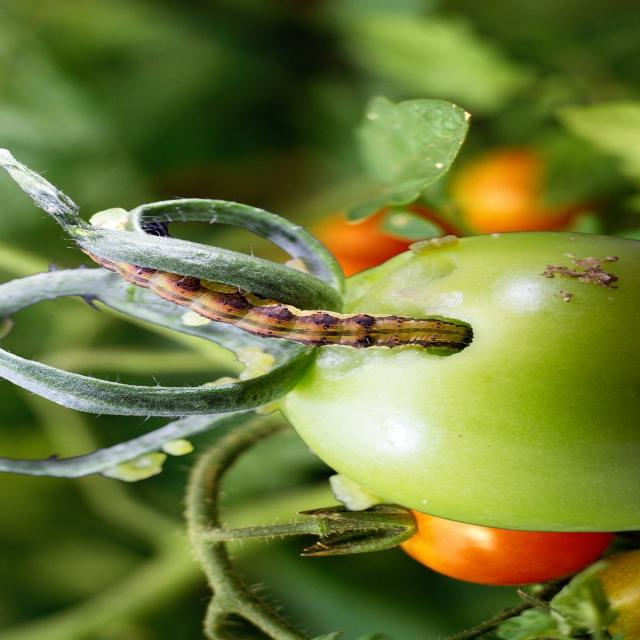worm: (48, 197, 477, 395)
